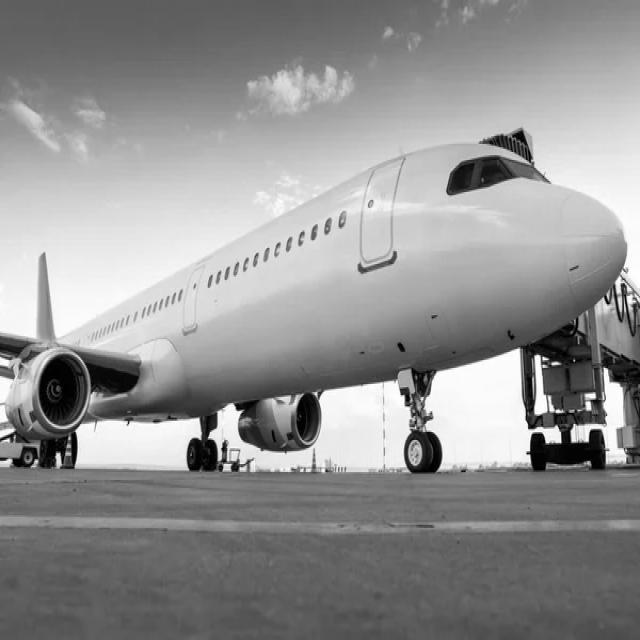Aircraft: (0, 135, 633, 492)
